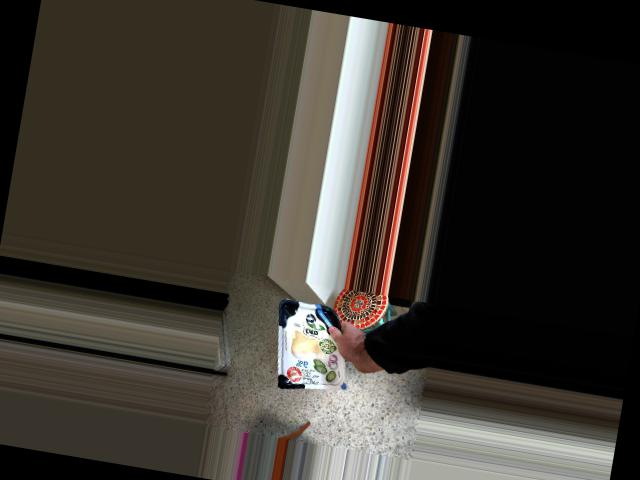cheese: (288, 317, 369, 398)
